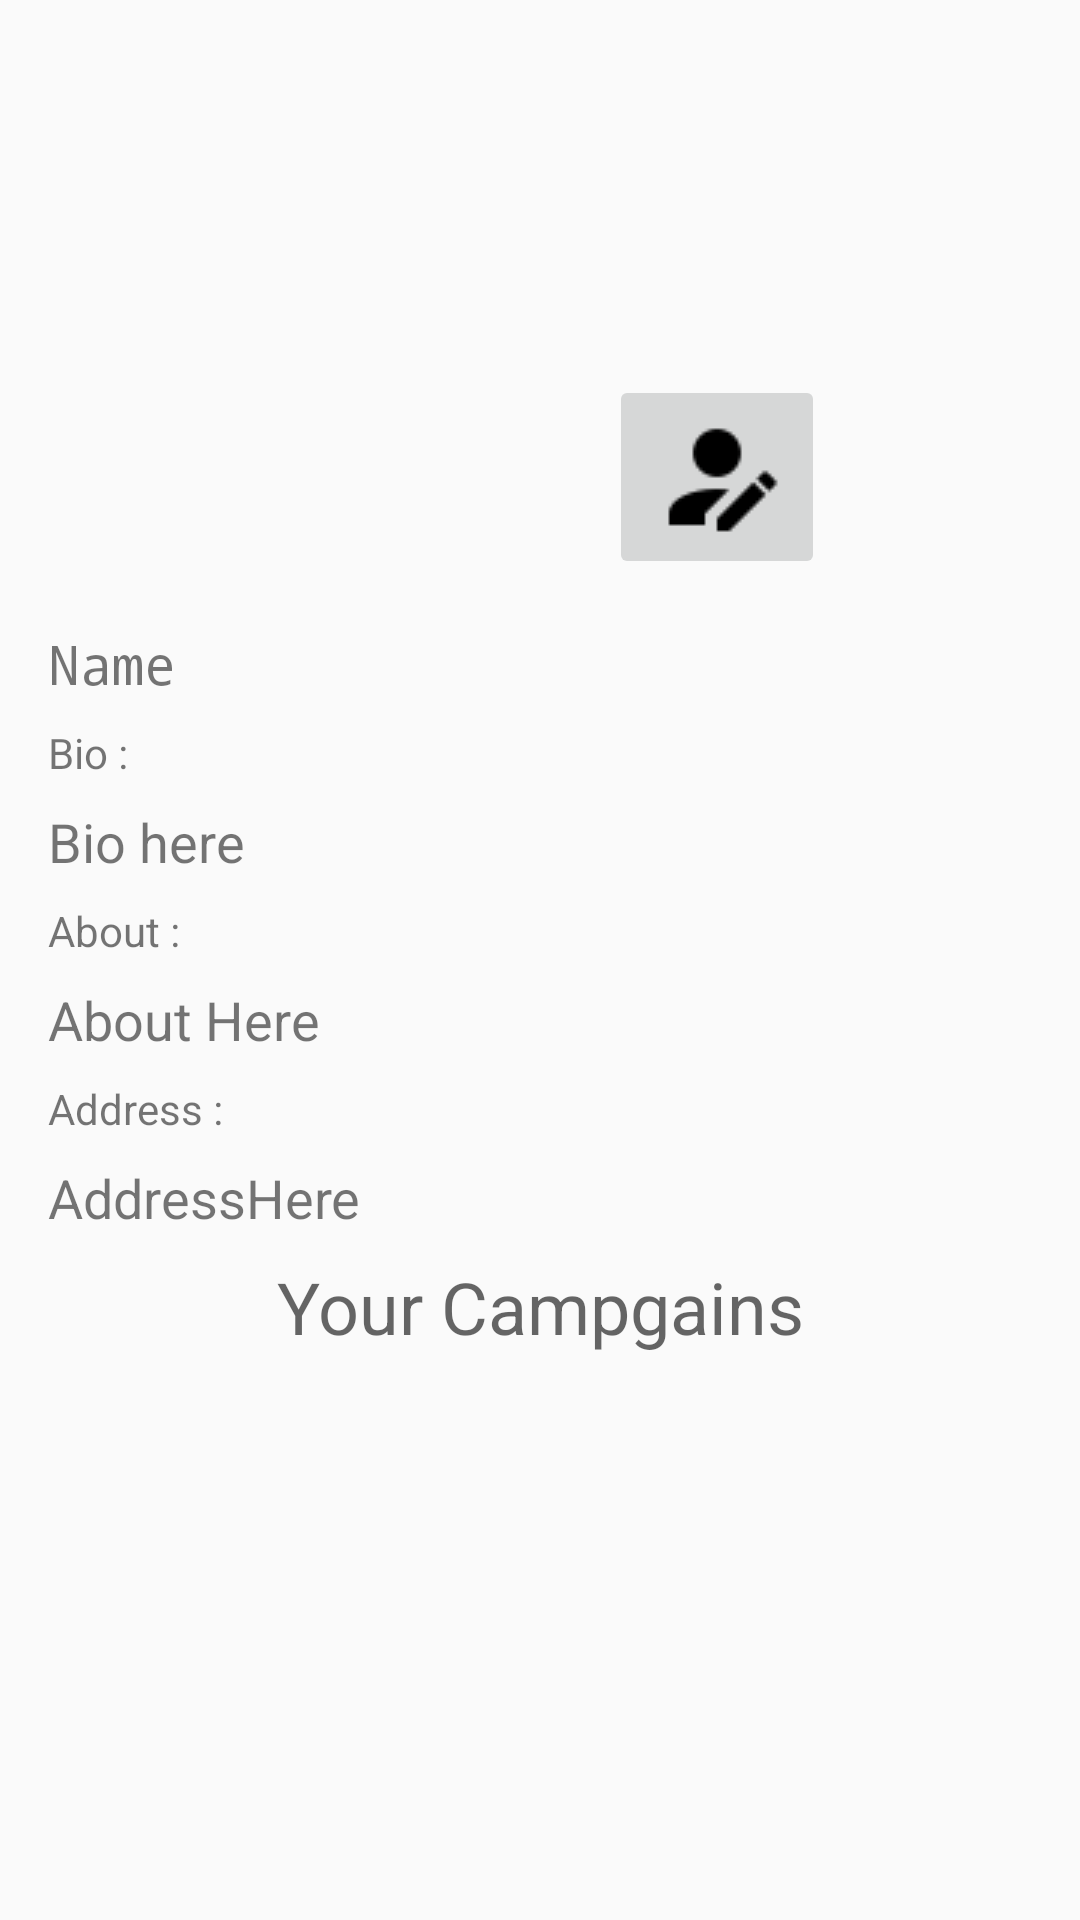

Icon bounding boxes for this 1080w x 1920h phone screenshot, format (x1, y1, x2, y2):
fab: (621, 393, 813, 561)
